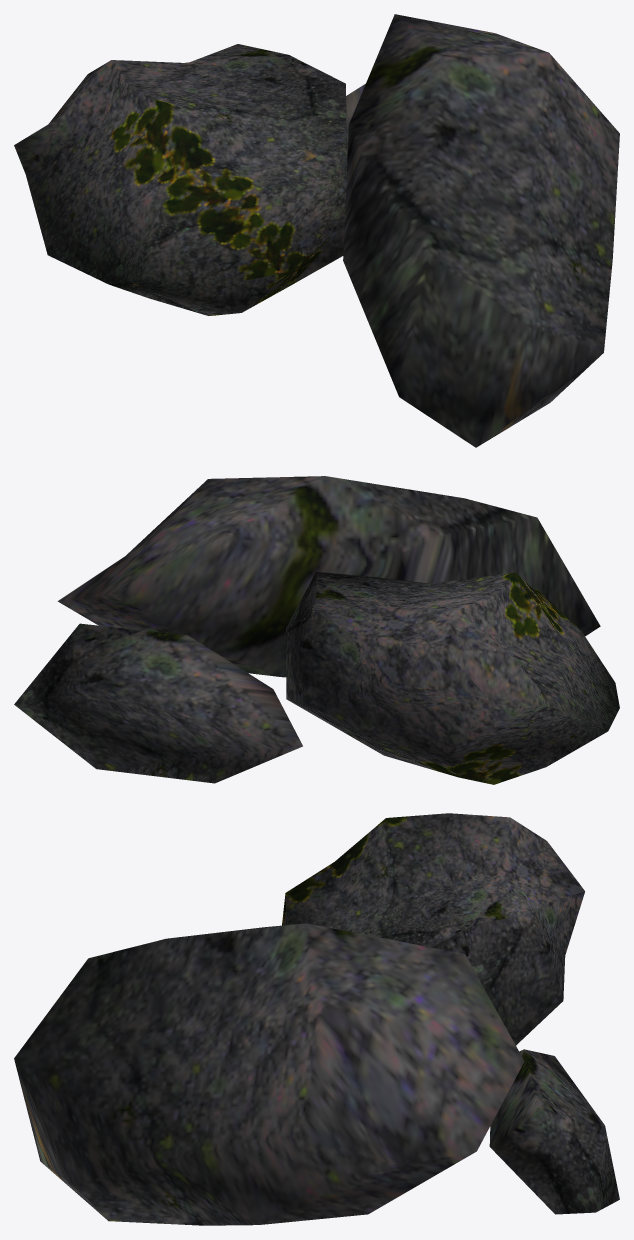
Rendered from treasurestones2.dae.
The picture shows the model from 3 angles, top to bottom: view 1: azimuth 30°, elevation 25°; view 2: azimuth 150°, elevation 25°; view 3: azimuth 270°, elevation 25°; orthographic projection. The views are drawn at different scales.
Parts seen in each view (by area): view 1: Sphere; view 2: Sphere; view 3: Sphere.
Part boxes in pixels (x1,y1,x2,y2): Sphere: [14, 14, 619, 447]; Sphere: [14, 476, 619, 784]; Sphere: [14, 813, 619, 1225].
Size of the model in its own units: 1.25 by 1.14 by 0.605.
1 material, 1 textured.
